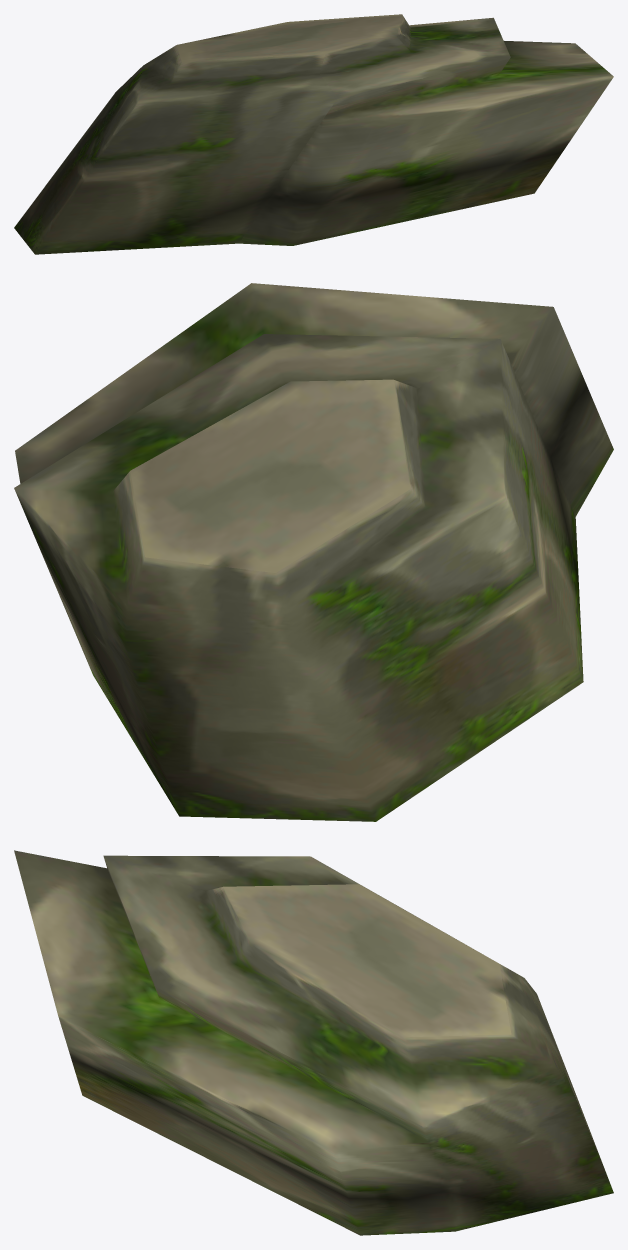
File: RockFormation_4_5 (37).fbx
3 renders of one model, top to bottom at view 1: azimuth 30°, elevation 25°; view 2: azimuth 150°, elevation 25°; view 3: azimuth 270°, elevation 25°, orthographic. The views are drawn at different scales.
Parts seen in each view (by area): view 1: RockFormation_4_5 (37); view 2: RockFormation_4_5 (37); view 3: RockFormation_4_5 (37).
Boxes of the visible parts, x1,y1,x2,y2 form: RockFormation_4_5 (37): (14, 14, 613, 254); RockFormation_4_5 (37): (14, 283, 613, 821); RockFormation_4_5 (37): (14, 850, 613, 1235).
Size of the model in its own units: 126 by 64.71 by 115.
